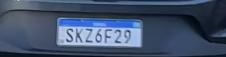Placa_mercosul_carro: (56, 16, 144, 48)
